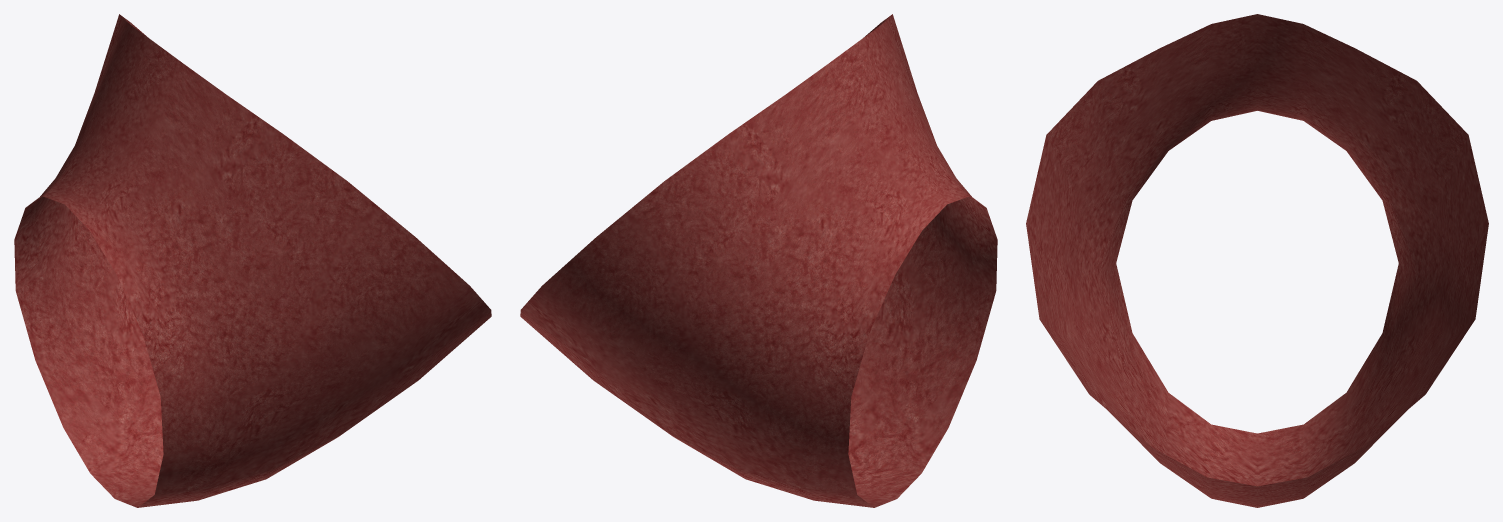
File: Stomach4.fbx
3 renders of one model, left to right at view 1: azimuth 30°, elevation 25°; view 2: azimuth 150°, elevation 25°; view 3: azimuth 270°, elevation 25°, orthographic. The views are drawn at different scales.
Visible parts, largest first — view 1: polySurface1976; view 2: polySurface1976; view 3: polySurface1976.
Boxes of the visible parts, x1,y1,x2,y2 form: polySurface1976: (14, 14, 491, 507); polySurface1976: (520, 14, 997, 507); polySurface1976: (1026, 14, 1488, 507).
Bounding box in the file's own units: 8.76 × 9.59 × 9.06.
Materials: 1 (1 with a texture image).
